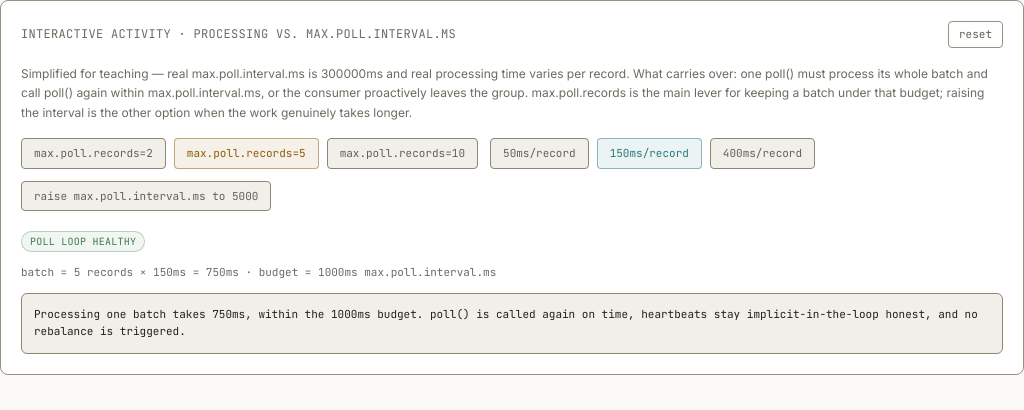
Test: PollIntervalDemo › raising max.poll.interval.ms brings the same slow batch back inside budget
Click the button "400ms/record" at point(762, 153), box 710,138 -> 815,168
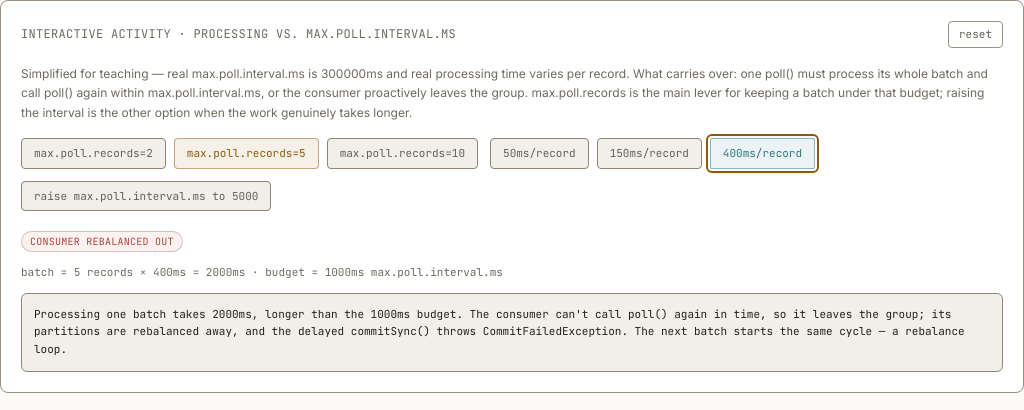
Result: the text "consumer rebalanced out" is shown at 21,231 -> 183,252
Click the button "raise max.poll.interval.ms to 5000" at point(146, 196), box 21,180 -> 271,211
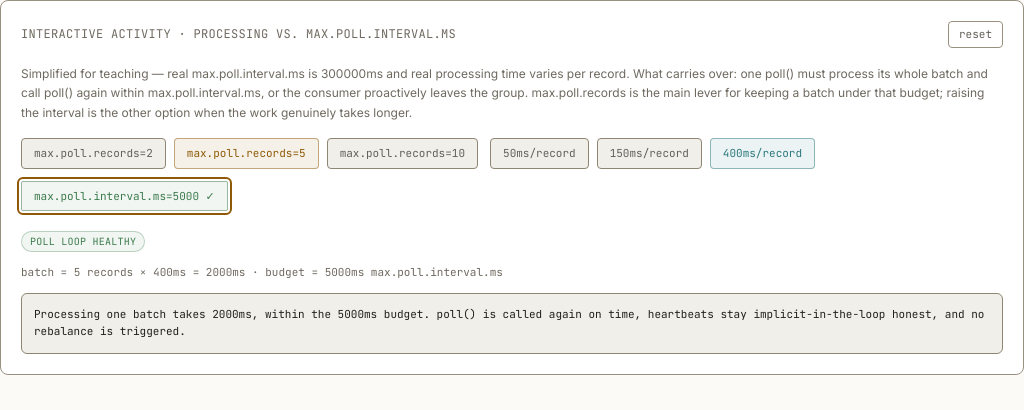
Result: the text with test id "batch-time" shows "budget = 5000ms max.poll.interval.ms" at 21,265 -> 503,279
Result: the text "poll loop healthy" is shown at 21,231 -> 145,252
